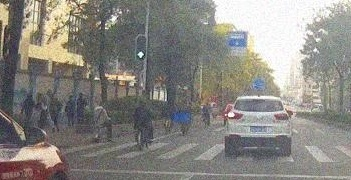L_light: (227, 112, 243, 119)
R_light: (274, 112, 289, 120)
T_light: (253, 99, 265, 101)
day-left: (224, 96, 291, 154)
